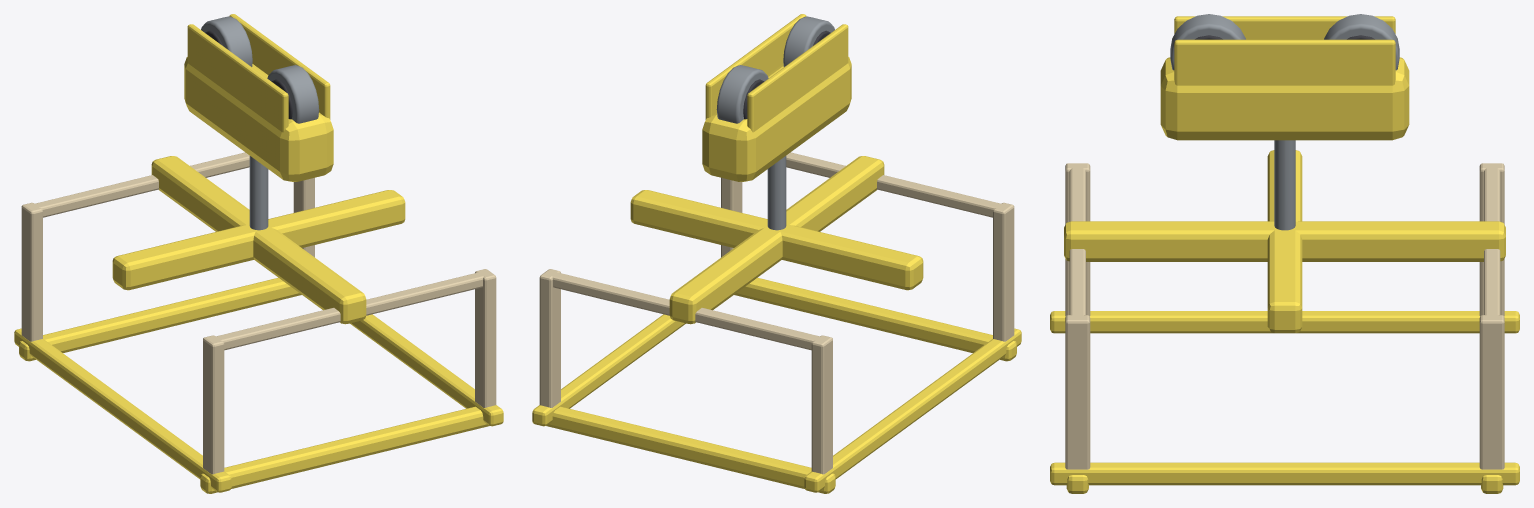
Rendered from zip_trolley.fbx.
3 renders of one model, left to right at view 1: azimuth 30°, elevation 25°; view 2: azimuth 150°, elevation 25°; view 3: azimuth 270°, elevation 25°, orthographic. The views are drawn at different scales.
Visible parts, largest first — view 1: Visual; view 2: Visual; view 3: Visual.
Boxes of the visible parts, x1,y1,x2,y2 form: Visual: (14,14,503,493); Visual: (532,14,1021,493); Visual: (1050,14,1519,493).
Bounding box in the file's own units: 280 × 316 × 340.
